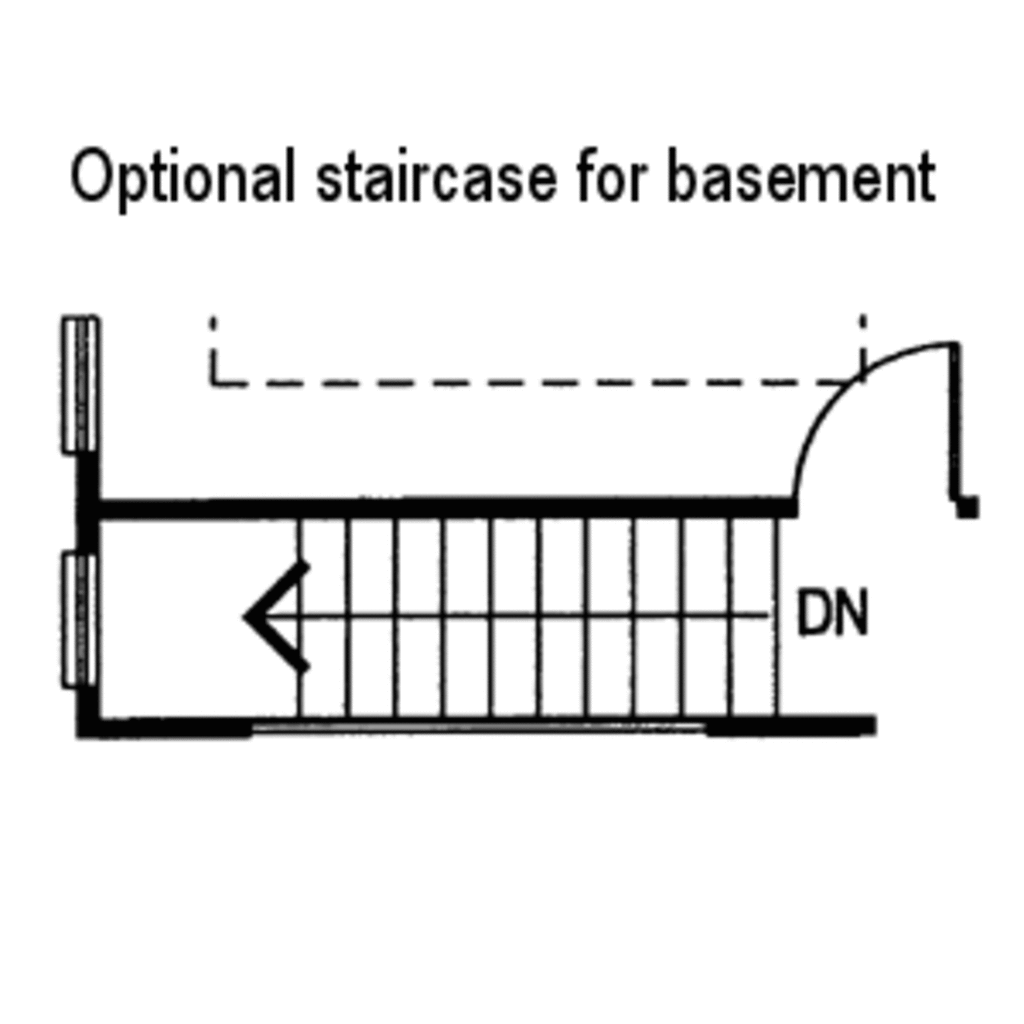door: (769, 328, 984, 530)
stairs: (102, 513, 830, 732)
window: (50, 297, 108, 464), (55, 539, 113, 686)
